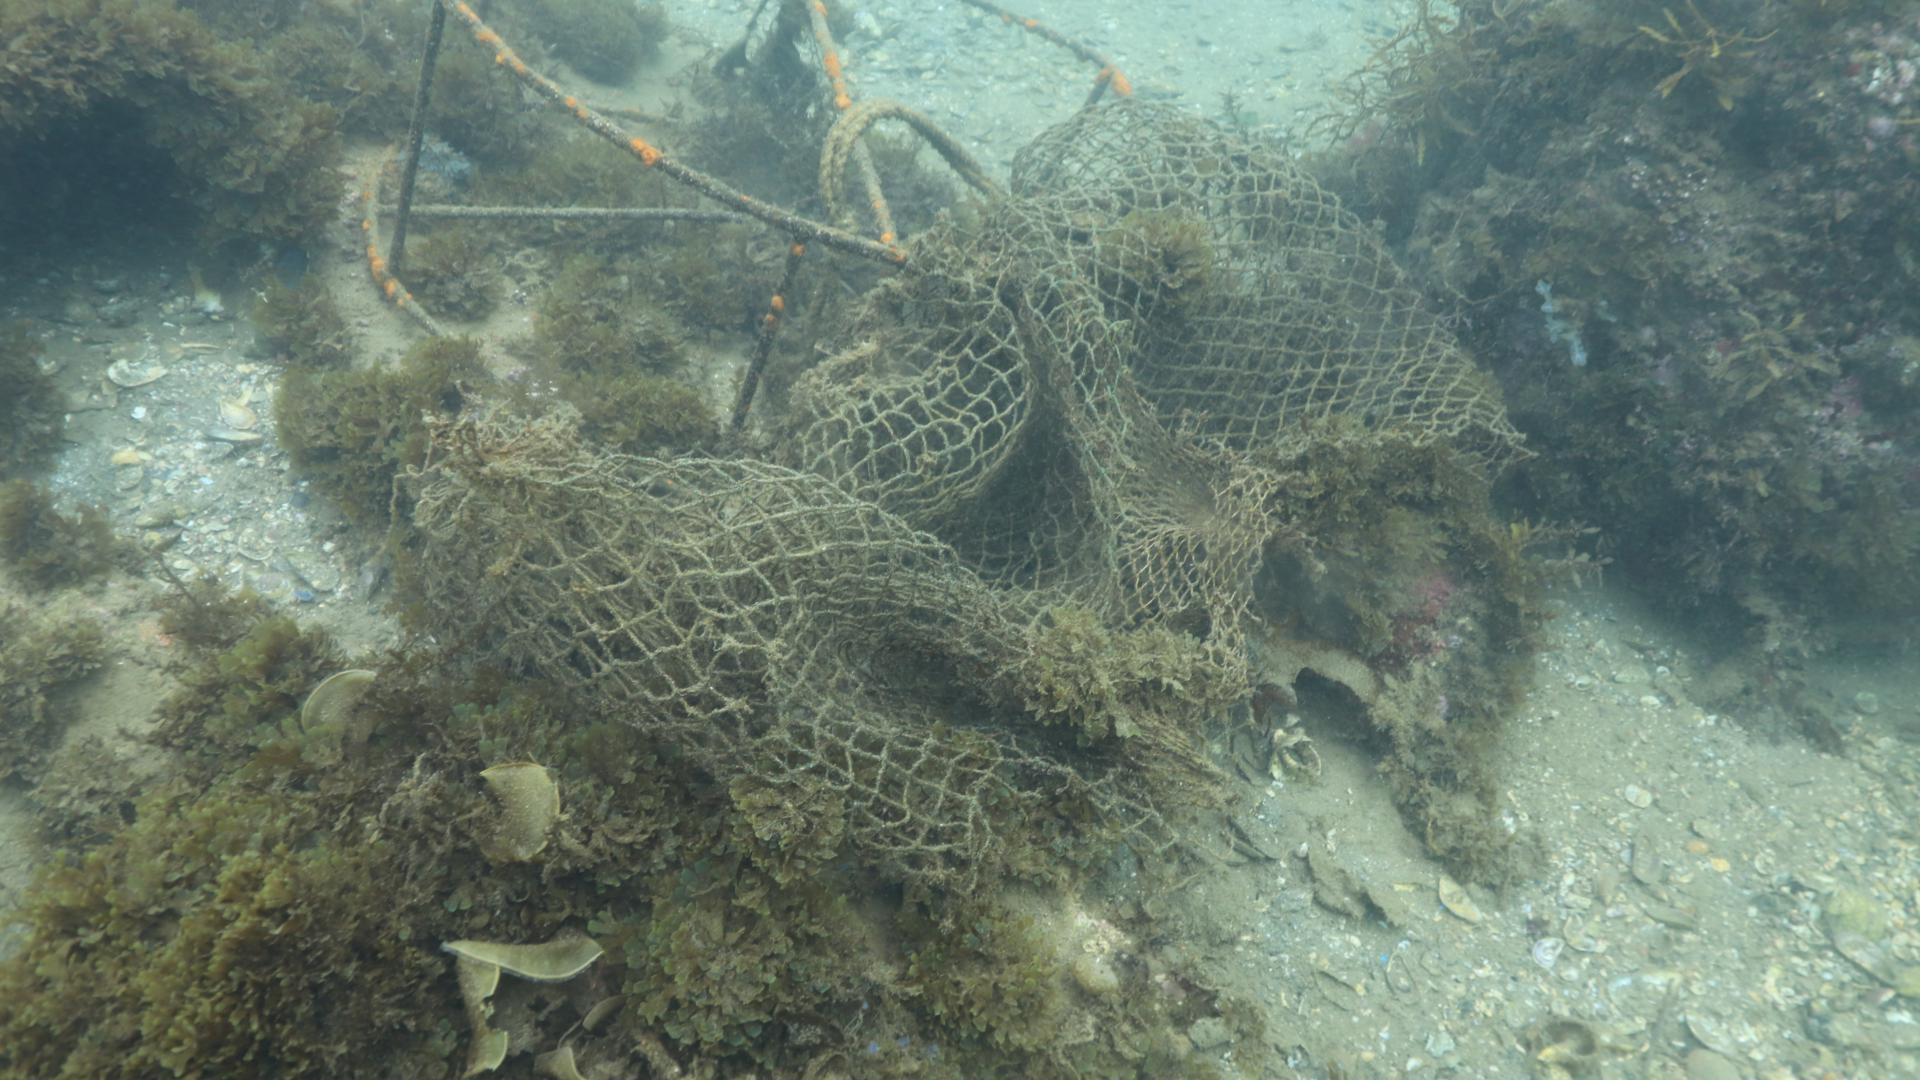bundle of ropes: (818, 94, 1007, 225)
fish net: (410, 94, 1538, 894)
